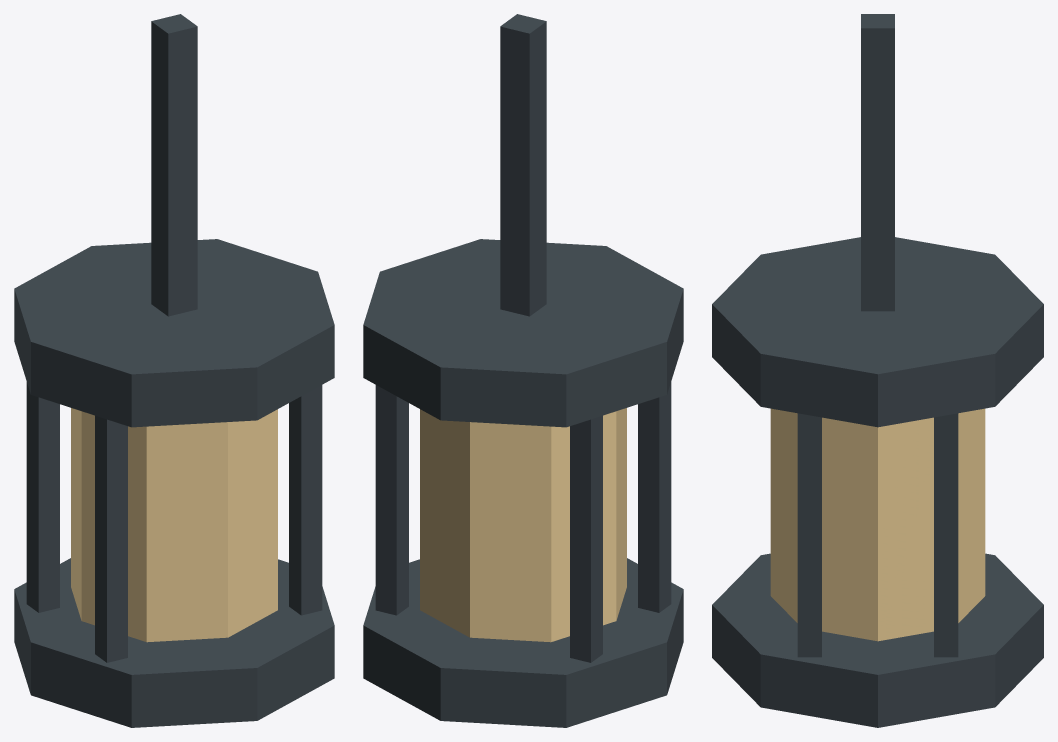
File: lantern_hanging.glb
The picture shows the model from 3 angles, left to right: view 1: azimuth 30°, elevation 25°; view 2: azimuth 150°, elevation 25°; view 3: azimuth 270°, elevation 25°; orthographic projection.
Visible parts, largest first — view 1: lantern_hanging; view 2: lantern_hanging; view 3: lantern_hanging.
Boxes of the visible parts, left/top/right/bottom form: lantern_hanging: left=14, top=14, right=334, bottom=727; lantern_hanging: left=363, top=14, right=683, bottom=727; lantern_hanging: left=712, top=14, right=1043, bottom=727.
Size of the model in its own units: 0.34 by 0.72 by 0.34.
